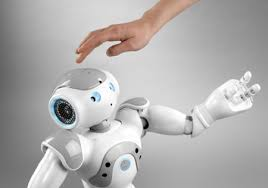nao: (22, 61, 258, 188)
